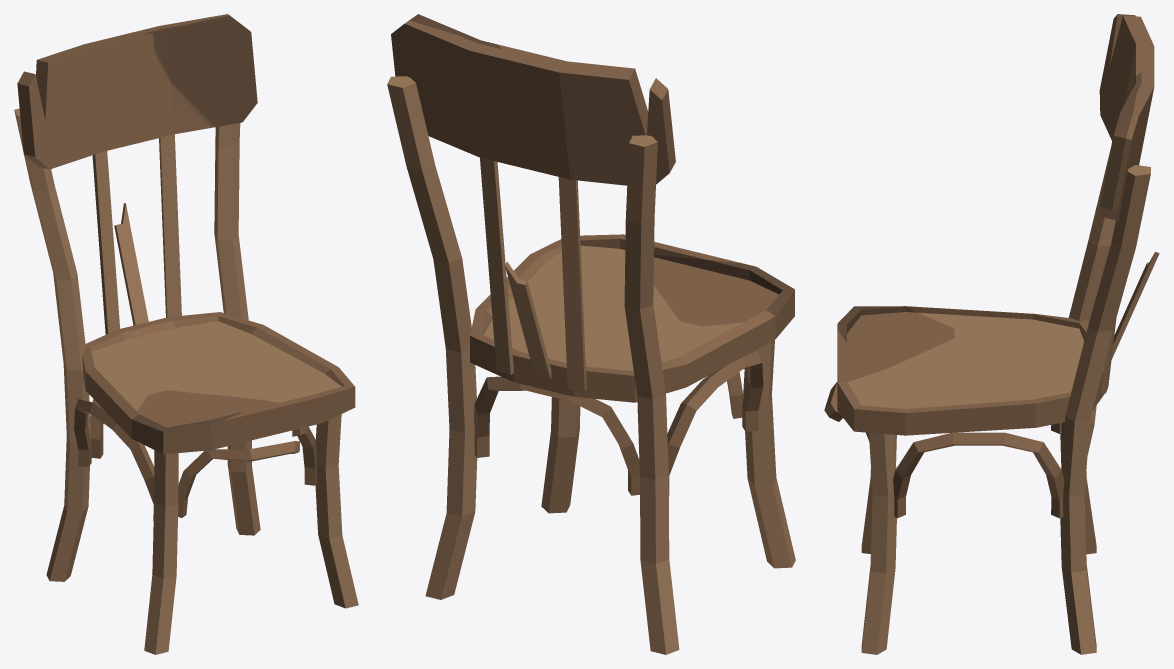
Rendered from SM_Chair.gltf.
3 renders of one model, left to right at view 1: azimuth 30°, elevation 25°; view 2: azimuth 150°, elevation 25°; view 3: azimuth 270°, elevation 25°, orthographic. The views are drawn at different scales.
Visible parts, largest first — view 1: SM_Chair; view 2: SM_Chair; view 3: SM_Chair.
Part boxes in pixels (left/top/right/bottom): SM_Chair: left=14, top=14, right=358, bottom=654; SM_Chair: left=387, top=14, right=795, bottom=654; SM_Chair: left=824, top=14, right=1159, bottom=654.
Bounding box in the file's own units: 0.5612 × 1.17 × 0.6626.
1 material, 1 textured.
